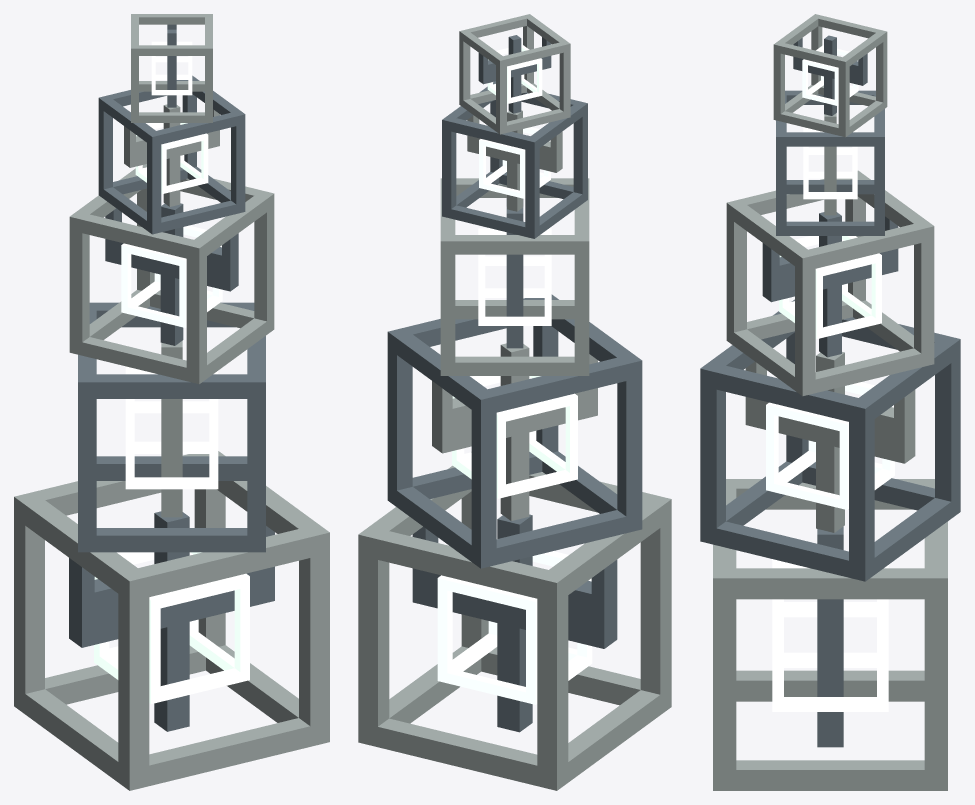
Rendered from Tower 2.fbx.
The picture shows the model from 3 angles, left to right: view 1: azimuth 30°, elevation 25°; view 2: azimuth 150°, elevation 25°; view 3: azimuth 270°, elevation 25°; orthographic projection. The views are drawn at different scales.
Parts seen in each view (by area): view 1: Tower; view 2: Tower; view 3: Tower.
Boxes of the visible parts, bbox=[...] form: Tower: bbox=[14, 14, 329, 790]; Tower: bbox=[358, 14, 671, 790]; Tower: bbox=[700, 14, 960, 790].
Size of the model in its own units: 222 by 661 by 222.
